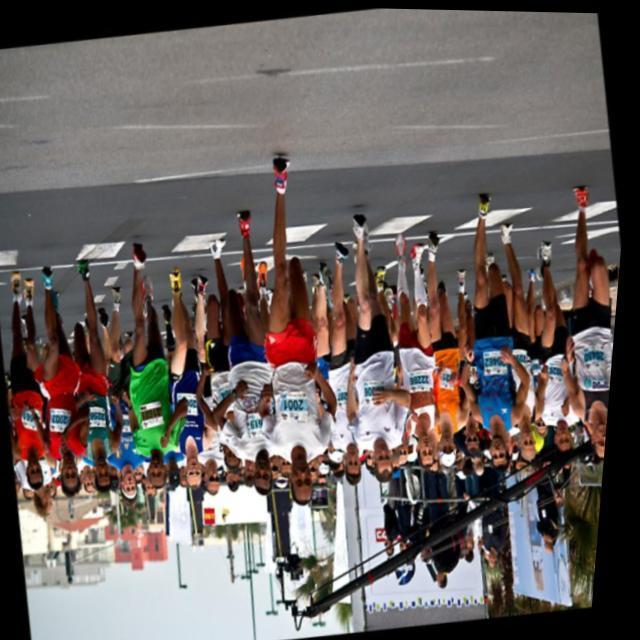dorsal: (275, 387, 314, 428), (44, 400, 78, 440), (476, 342, 512, 378), (134, 394, 170, 429), (358, 373, 393, 407), (576, 337, 612, 370), (17, 401, 48, 435), (403, 362, 438, 392), (172, 386, 204, 418), (242, 405, 271, 439), (333, 380, 362, 411), (85, 400, 112, 430), (432, 358, 458, 389), (544, 358, 570, 384), (215, 381, 238, 407), (509, 343, 531, 366)
